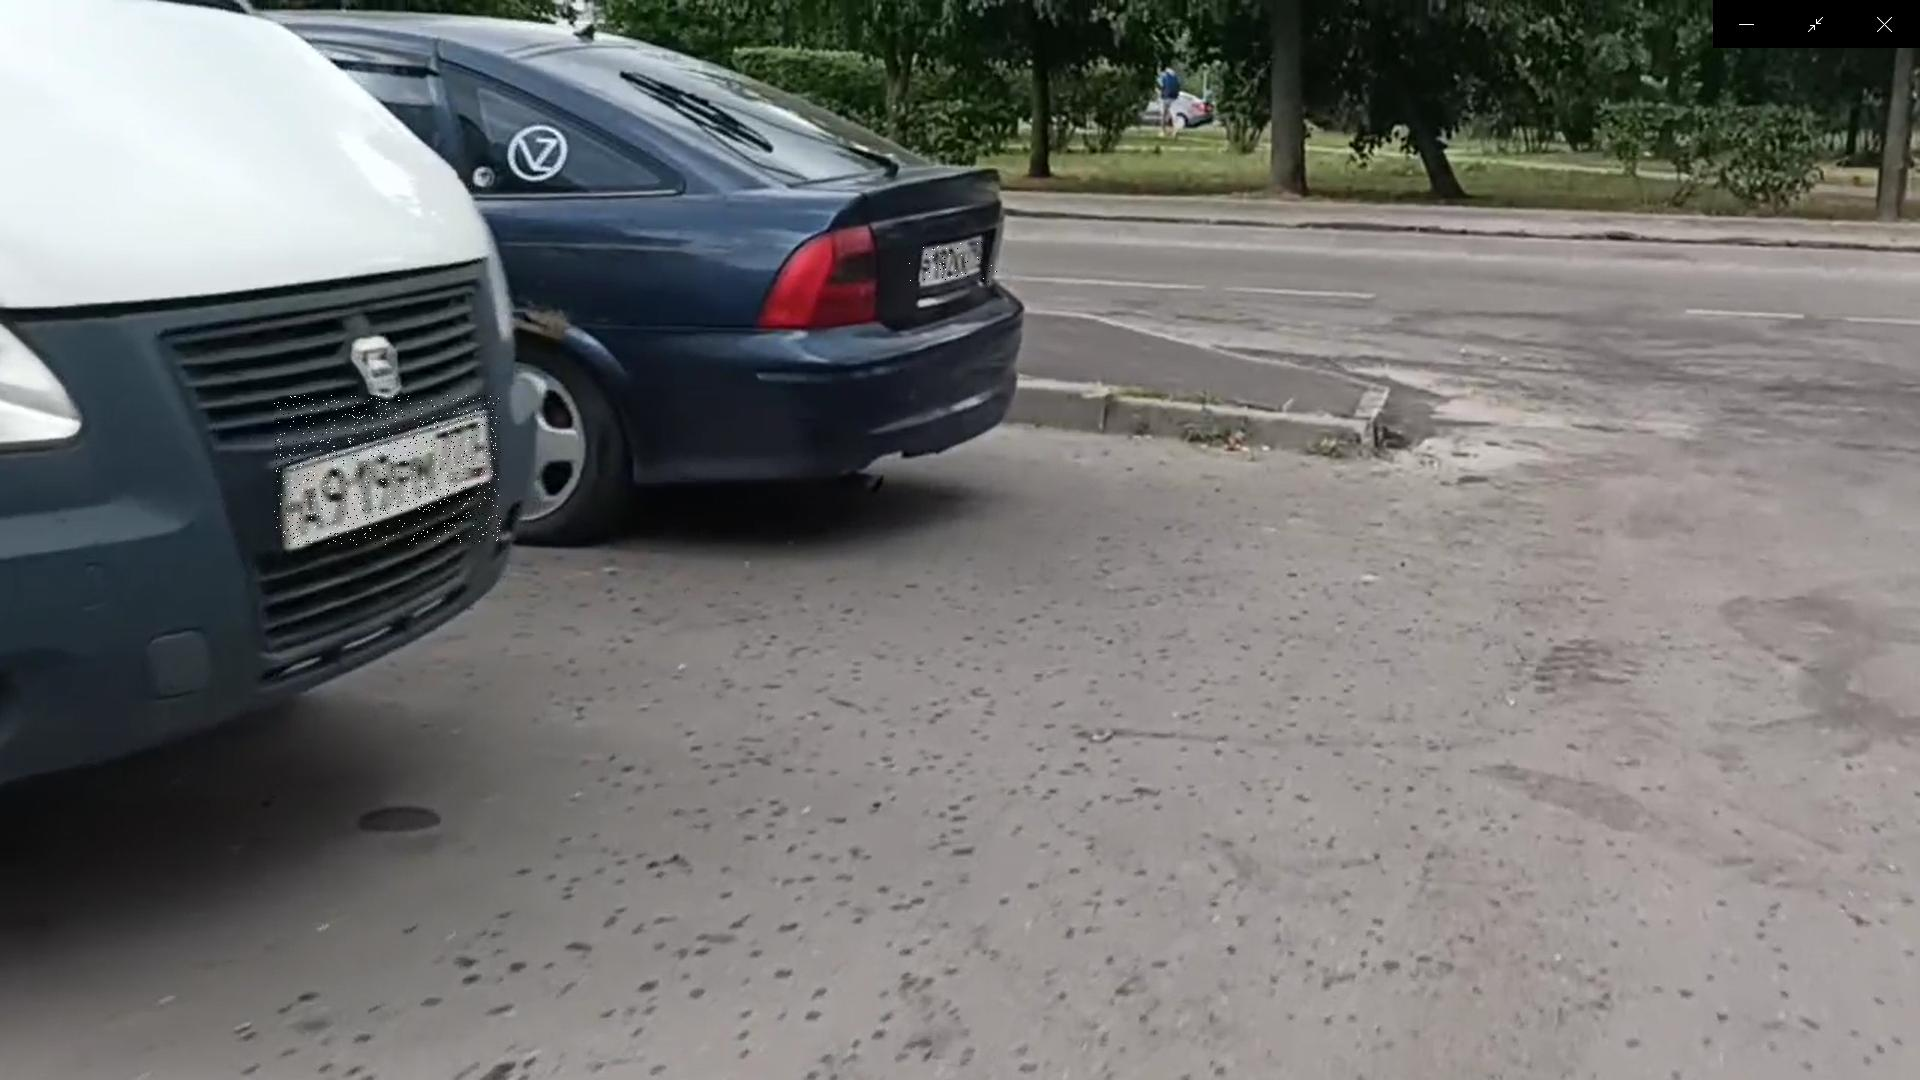plate: (275, 397, 502, 547), (906, 243, 999, 283)
